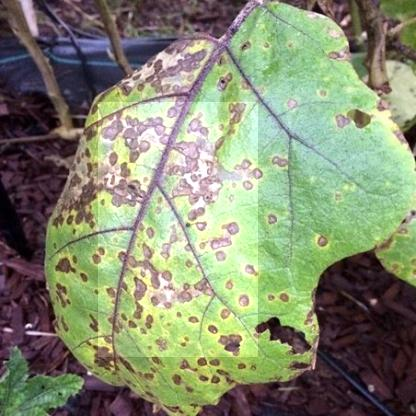black-spot: (98, 102, 258, 357)
